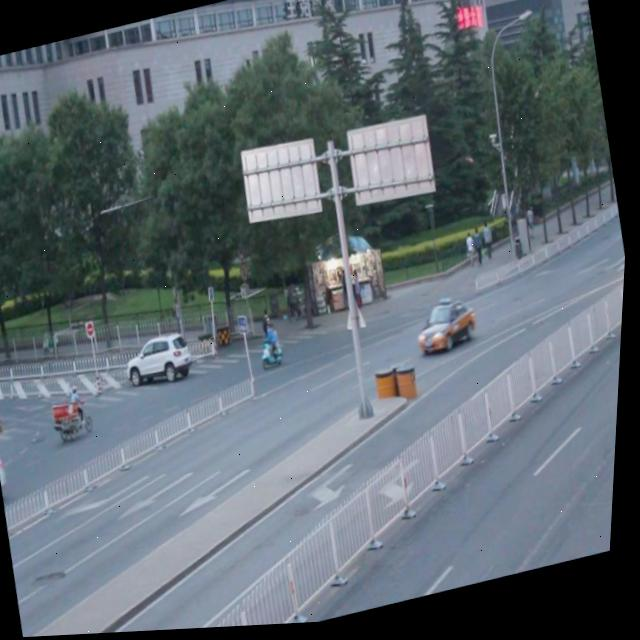car: (413, 298, 484, 365), (126, 331, 200, 392), (0, 443, 17, 494)
